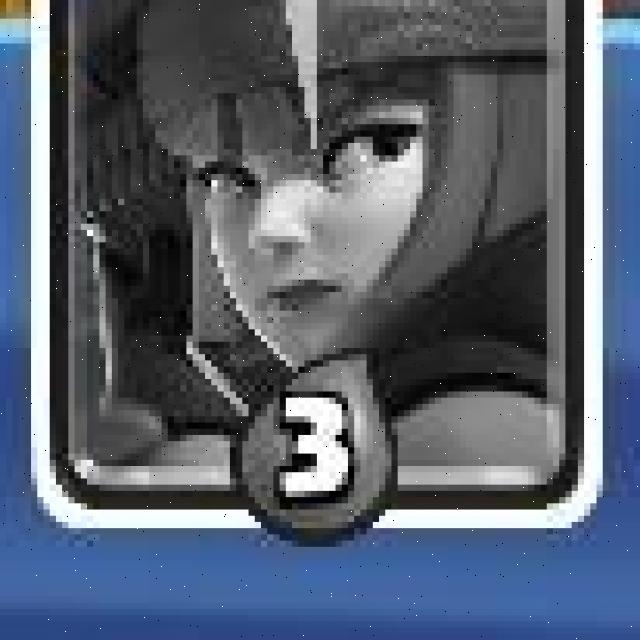Firecracker: (28, 0, 606, 529)
